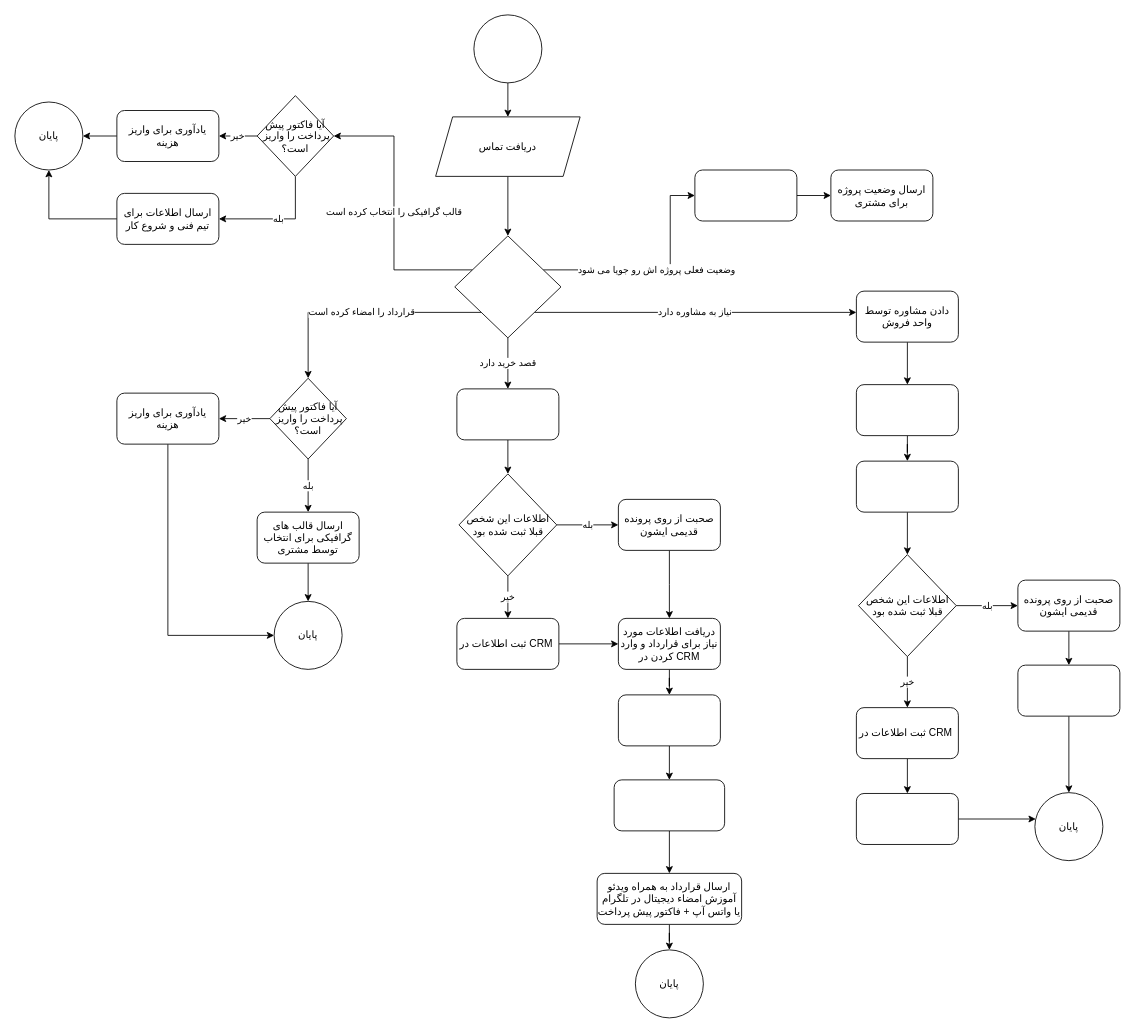
This 1135x1033 diagram has some shape labels left out. Here are the shapes that lost their labels. From the top down, the centre of each, then its label:
At [507,48]: "شروع".
At [745,195]: "دریافت وضعیت پروژه مشتری از تیم فنی".
At [507,286]: "وضعیت تماس گیرنده".
At [507,414]: "جستجو در CRM و بررسی وضعیت تماس گیرنده".
At [907,410]: "دریافت اطلاعات اولیه".
At [907,486]: "جستجو در CRM برای بررسی وضعیت تماس گیرنده".
At [1068,690]: "بررسی مکالمه و سعی در شناخت نیازها و فروش".
At [669,720]: "آماده سازی قرارداد با مشخصات کارفرما و پیمانکار".
At [669,805]: "ایجاد سه فاکتور فروش 50% پیش پرداخت 30% بعد از طرح گرافیکی 20% تحویل کار".
At [907,818]: "ارسال پروپوزال و آدرس سایت".
